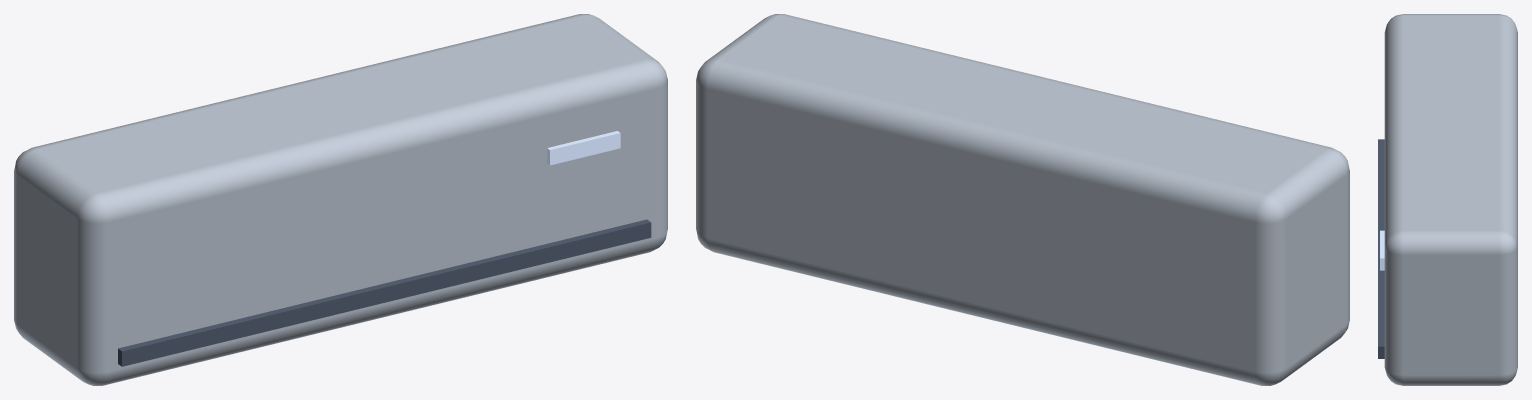
File: wallac.glb
The picture shows the model from 3 angles, left to right: view 1: azimuth 30°, elevation 25°; view 2: azimuth 150°, elevation 25°; view 3: azimuth 270°, elevation 25°; orthographic projection. The views are drawn at different scales.
Parts seen in each view (by area): view 1: wallac; view 2: wallac; view 3: wallac.
Part boxes in pixels (x1,y1,x2,y2): wallac: [14, 14, 667, 385]; wallac: [696, 14, 1349, 385]; wallac: [1378, 14, 1517, 385].
Size of the model in its own units: 0.9 by 0.28 by 0.231.
